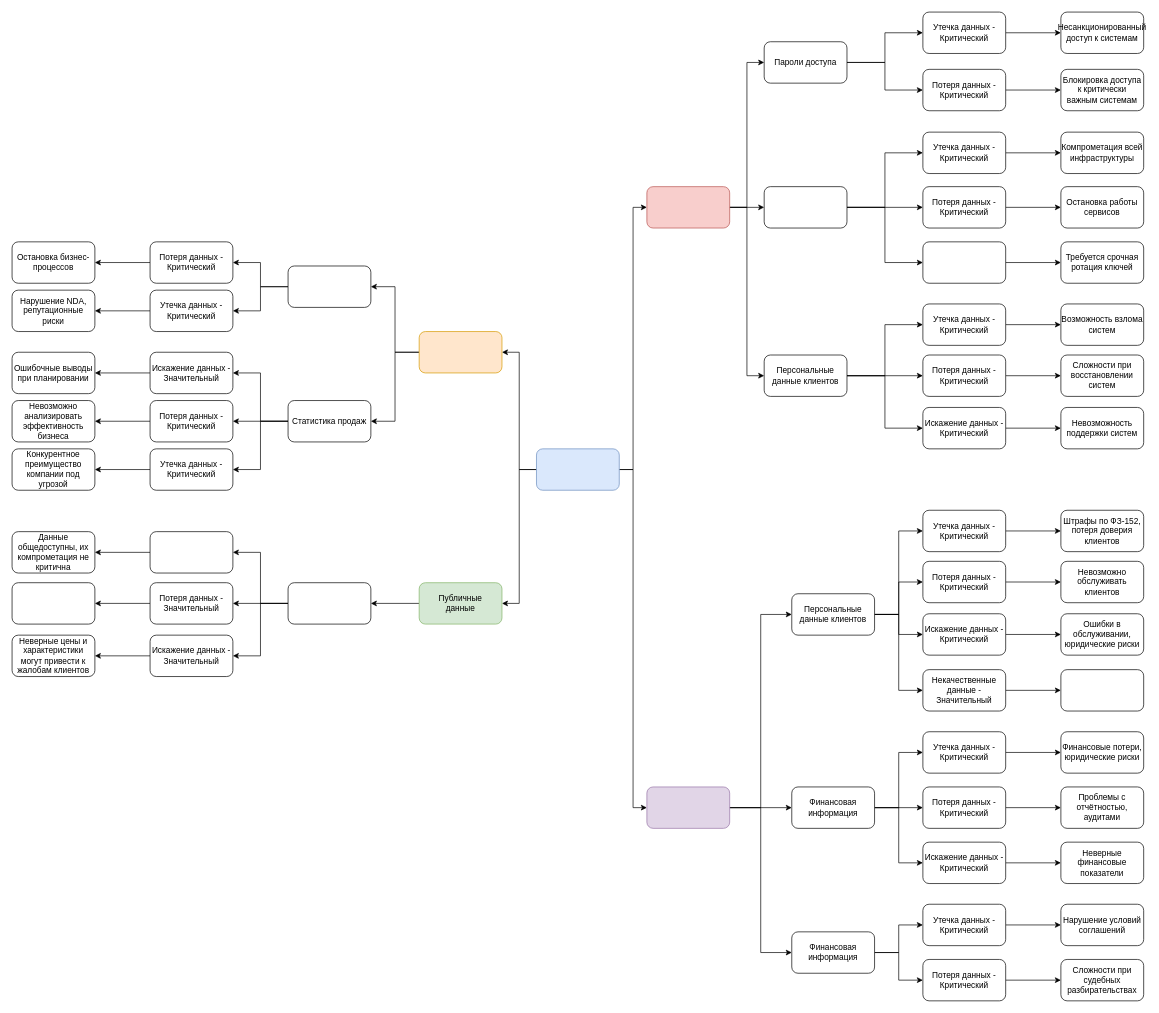
Some shapes in this 1159 by 1013 pixel diagram are drawn without their labels. Each missing label, with the box of its shape:
API-ключи: (763, 186, 847, 228)
Безопасность данных: (536, 448, 619, 490)
Внутренние данные: (418, 331, 502, 373)
Данные сотрудников: (287, 265, 371, 307)
Информация о ЖК: (287, 582, 371, 624)
Конфеденциальные данные: (646, 786, 730, 828)
Обесценивание данных - Значительный: (922, 241, 1006, 283)
Потеря маркетинговой информации влияет на продажи: (11, 582, 95, 624)
Секретные данные: (646, 186, 730, 228)
Снижение качества сервиса: (1060, 669, 1144, 711)
Утечка данных - Незначительный: (149, 531, 233, 573)
